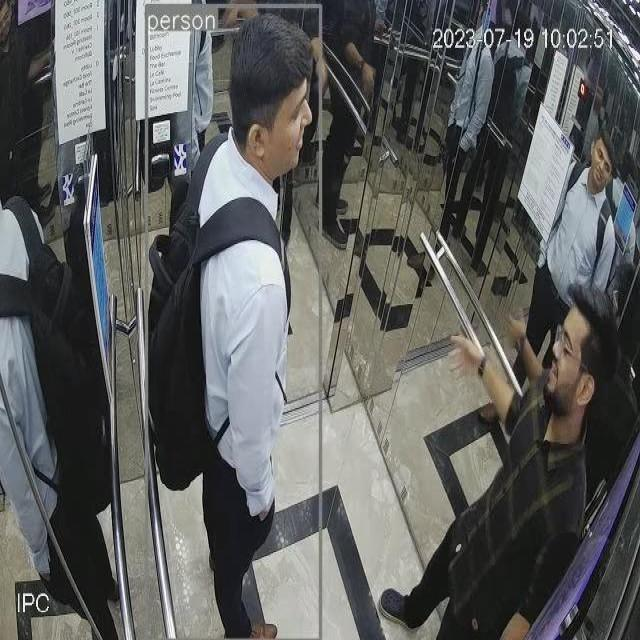person: (146, 12, 311, 633), (381, 293, 632, 640), (0, 174, 123, 640), (528, 130, 623, 378)
